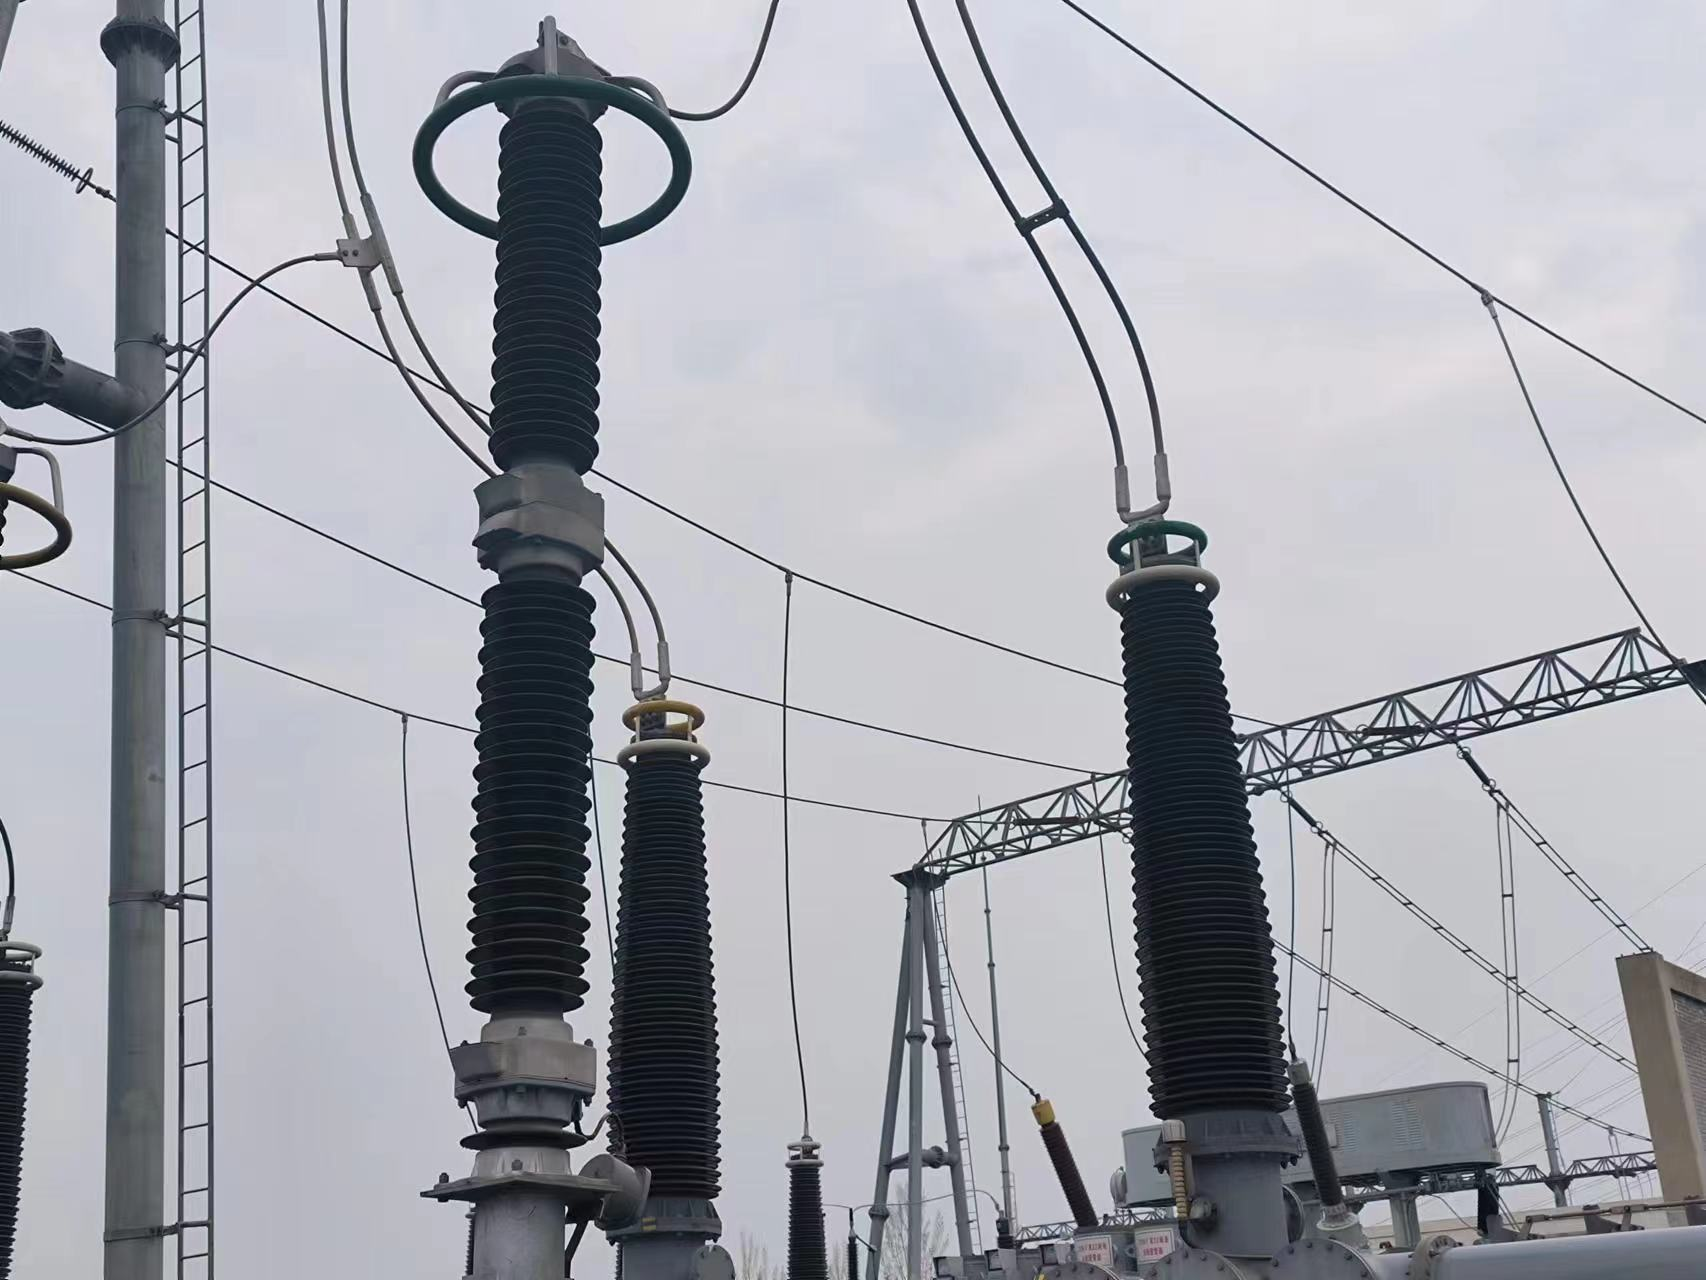Arrester: (407, 22, 695, 1042)
Voltage transformer: (1101, 523, 1305, 1115), (604, 698, 725, 1193)
